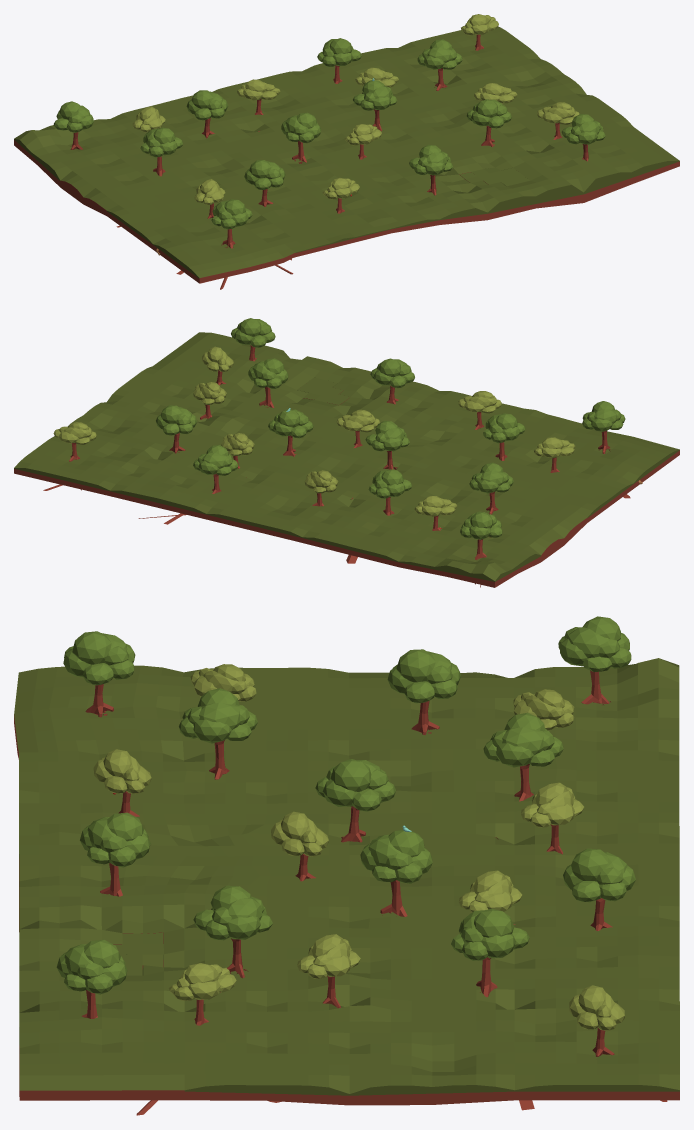
The model's file is woods.glb.
3 views of the same model, one above another, from view 1: azimuth 30°, elevation 25°; view 2: azimuth 150°, elevation 25°; view 3: azimuth 270°, elevation 25° (orthographic). The views are drawn at different scales.
Visible parts, largest first — view 1: ground, leaves.003, leaves.009, leaves.010, leaves.019, leaves.013, leaves, leaves.007, leaves.001, leaves.006, leaves.020, leaves.012 (+10 smaller); view 2: ground, leaves.004, leaves.012, leaves.019, leaves.006, leaves, leaves.010, leaves.001, leaves.003, leaves.009, leaves.020, leaves.007 (+10 smaller); view 3: ground, leaves.020, leaves.007, leaves.013, leaves.001, leaves.009, leaves.004, leaves.012, leaves.006, leaves, leaves.010, leaves.019 (+10 smaller).
Part boxes in pixels (x1,y1,x2,y2): ground: [14, 26, 679, 283]; leaves.003: [417, 39, 462, 69]; leaves.009: [466, 99, 511, 128]; leaves.010: [561, 114, 605, 144]; leaves.019: [409, 144, 452, 175]; leaves.013: [186, 90, 228, 120]; leaves: [353, 80, 397, 110]; leaves.007: [244, 160, 285, 189]; leaves.001: [281, 112, 320, 143]; leaves.006: [211, 199, 252, 229]; leaves.020: [53, 101, 93, 132]; leaves.012: [140, 127, 182, 157]; ground: [14, 332, 679, 587]; leaves.004: [193, 445, 238, 475]; leaves.012: [469, 462, 513, 493]; leaves.019: [370, 358, 414, 388]; leaves.006: [582, 401, 625, 431]; leaves: [268, 409, 313, 438]; leaves.010: [231, 318, 275, 347]; leaves.001: [365, 420, 409, 451]; leaves.003: [156, 405, 197, 435]; leaves.009: [248, 358, 288, 388]; leaves.020: [460, 511, 502, 539]; leaves.007: [483, 413, 525, 443]; ground: [14, 658, 679, 1105]; leaves.020: [558, 616, 631, 672]; leaves.007: [179, 688, 257, 743]; leaves.013: [483, 712, 563, 767]; leaves.001: [315, 759, 395, 811]; leaves.009: [193, 885, 272, 940]; leaves.004: [563, 848, 635, 902]; leaves.012: [387, 649, 461, 703]; leaves.006: [63, 631, 135, 685]; leaves: [360, 829, 432, 883]; leaves.010: [56, 939, 127, 994]; leaves.019: [80, 812, 150, 867].
Bounding box in the file's own units: 120 × 20.32 × 80.53.
